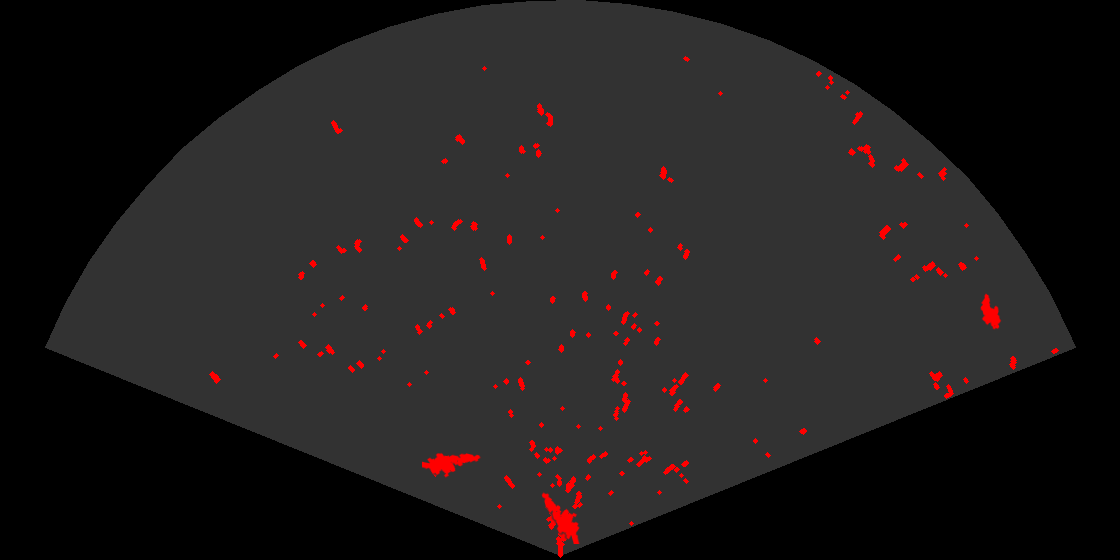AUV: (979, 292, 1003, 331)
frogman: (540, 490, 581, 544), (422, 451, 482, 479)
